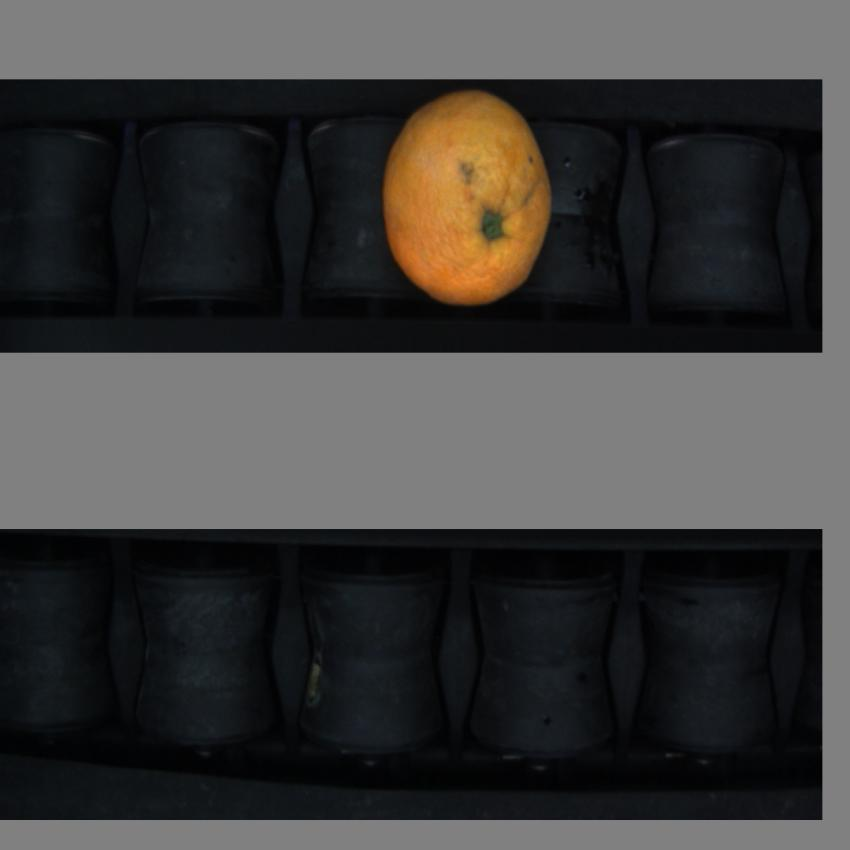Buen estado: (380, 82, 552, 302)
